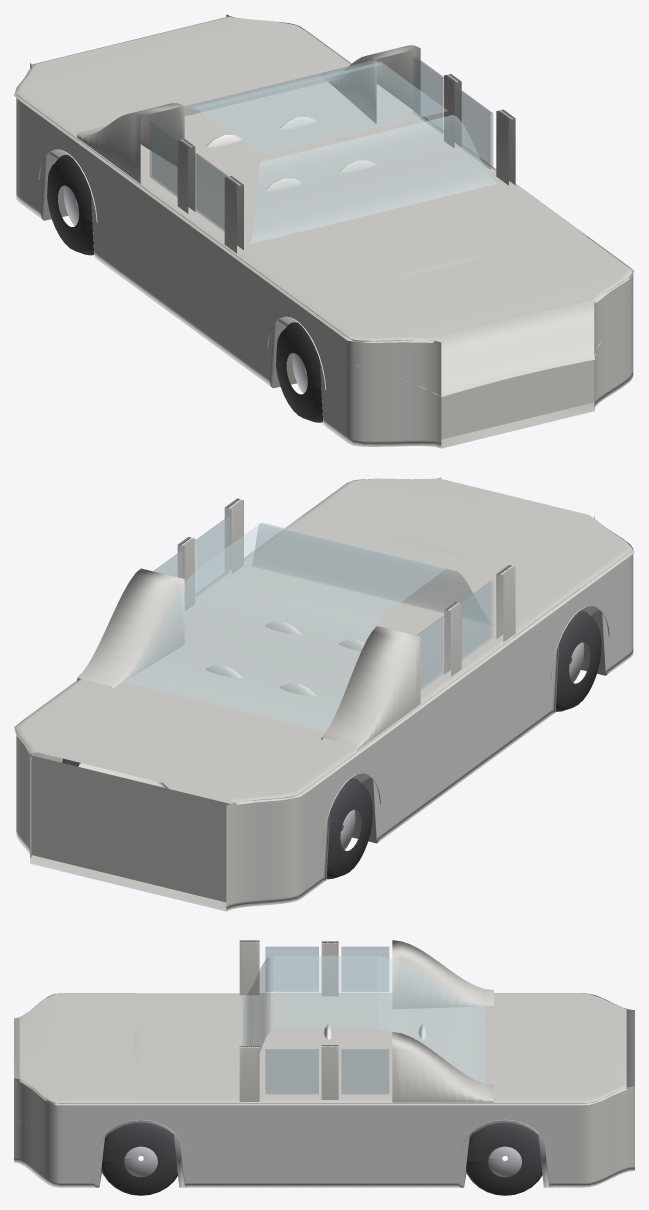
File: ev-sedan-notch.glb
The picture shows the model from 3 angles, top to bottom: view 1: azimuth 30°, elevation 25°; view 2: azimuth 150°, elevation 25°; view 3: azimuth 270°, elevation 25°; orthographic projection. The views are drawn at different scales.
Visible parts, largest first — view 1: BodyShoulder, BodySide, Windshield, BodyHood, RoofGlass, BodyNose, BodyCPillar_L, BodyCPillar_R, WheelFLTire, WheelRLTire, SideWindowFR, RearWindow (+7 smaller); view 2: BodyShoulder, BodySide, RearWindow, BodyFascia, RoofGlass, Windshield, BodyCPillar_R, BodyHood, BodyCPillar_L, WheelRLTire, WheelFLTire, SideWindowFR (+6 smaller); view 3: BodyShoulder, BodySide, RearWindow, RoofGlass, BodyHood, BodyCPillar_R, BodyCPillar_L, WheelFRTire, WheelRRTire, SideWindowFR, SideWindowFL, SideWindowRR (+8 smaller).
Boxes of the visible parts, x1,y1,x2,y2 form: BodyShoulder: [14, 17, 634, 342]; BodySide: [16, 14, 633, 448]; Windshield: [250, 115, 497, 243]; BodyHood: [232, 184, 608, 396]; RoofGlass: [195, 62, 447, 155]; BodyNose: [441, 360, 594, 439]; BodyCPillar_L: [77, 103, 184, 183]; BodyCPillar_R: [321, 45, 420, 123]; WheelFLTire: [276, 322, 322, 422]; WheelRLTire: [47, 154, 94, 255]; SideWindowFR: [457, 88, 492, 169]; RearWindow: [184, 61, 381, 116]; BodyShoulder: [14, 478, 634, 804]; BodySide: [16, 477, 633, 911]; RearWindow: [121, 572, 381, 730]; BodyFascia: [31, 755, 229, 902]; RoofGlass: [195, 522, 447, 616]; Windshield: [252, 523, 493, 625]; BodyCPillar_R: [77, 568, 184, 688]; BodyHood: [244, 516, 583, 636]; BodyCPillar_L: [321, 626, 420, 750]; WheelRLTire: [326, 778, 372, 879]; WheelFLTire: [555, 611, 601, 711]; SideWindowFR: [195, 517, 229, 596]; BodyShoulder: [19, 993, 626, 1105]; BodySide: [14, 993, 634, 1187]; RearWindow: [378, 957, 484, 1082]; RoofGlass: [274, 956, 380, 1027]; BodyHood: [14, 993, 245, 1122]; BodyCPillar_R: [392, 1032, 493, 1102]; BodyCPillar_L: [392, 940, 493, 1009]; WheelFRTire: [101, 1122, 177, 1195]; WheelRRTire: [466, 1122, 542, 1195]; SideWindowFR: [265, 1049, 318, 1094]; SideWindowFL: [265, 946, 318, 991]; SideWindowRR: [341, 1049, 389, 1094].
Size of the model in its own units: 1.87 by 1.2 by 4.4.
